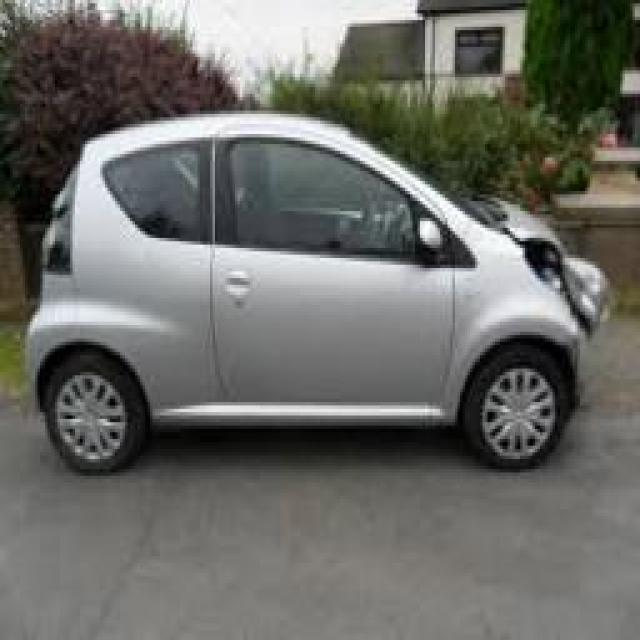replaceable: (514, 224, 620, 332)
